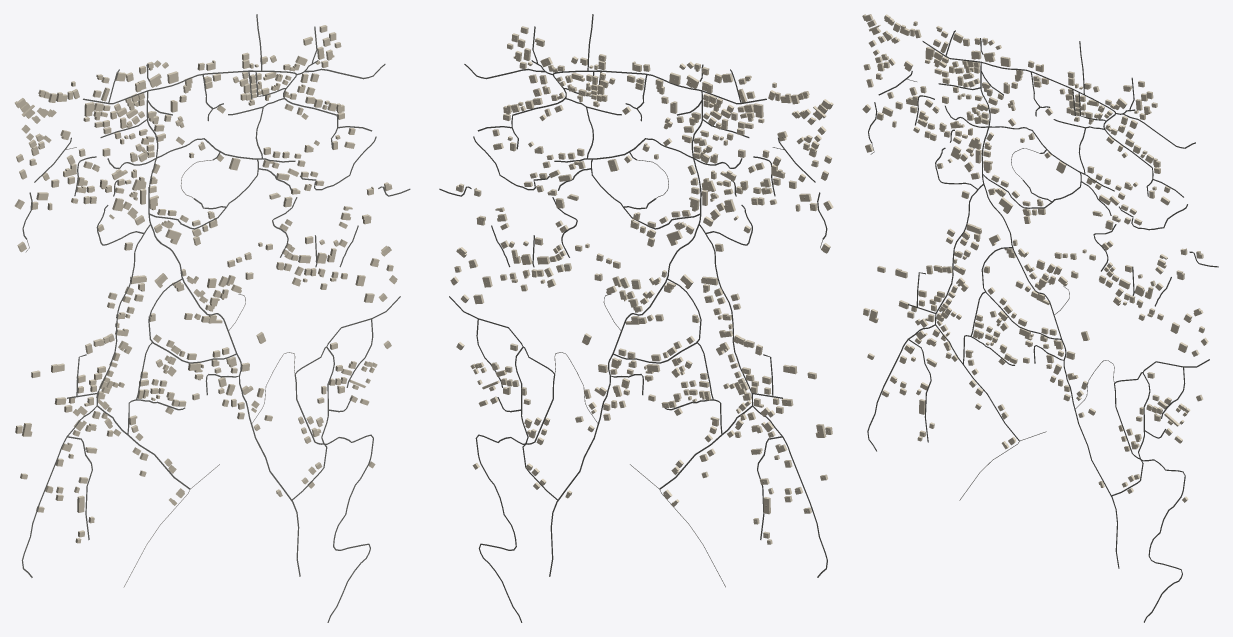
The model's file is historic-palestine-11_22_3526_3166.glb.
3 views of the same model, side by side, from view 1: azimuth 30°, elevation 25°; view 2: azimuth 150°, elevation 25°; view 3: azimuth 330°, elevation 25° (orthographic). The views are drawn at different scales.
Visible parts, largest first — view 1: Road .014, Road .024; view 2: Road .014, Road .024; view 3: Road .014, Road .024.
Part boxes in pixels (left/top/right/bottom): Road .014: left=321, top=296, right=400, bottom=622; Road .024: left=21, top=224, right=150, bottom=577; Road .014: left=449, top=296, right=528, bottom=622; Road .024: left=699, top=224, right=827, bottom=577; Road .014: left=1138, top=359, right=1209, bottom=622; Road .024: left=867, top=183, right=983, bottom=451.
Bounding box in the file's own units: 988 × 1499 × 8.7.
